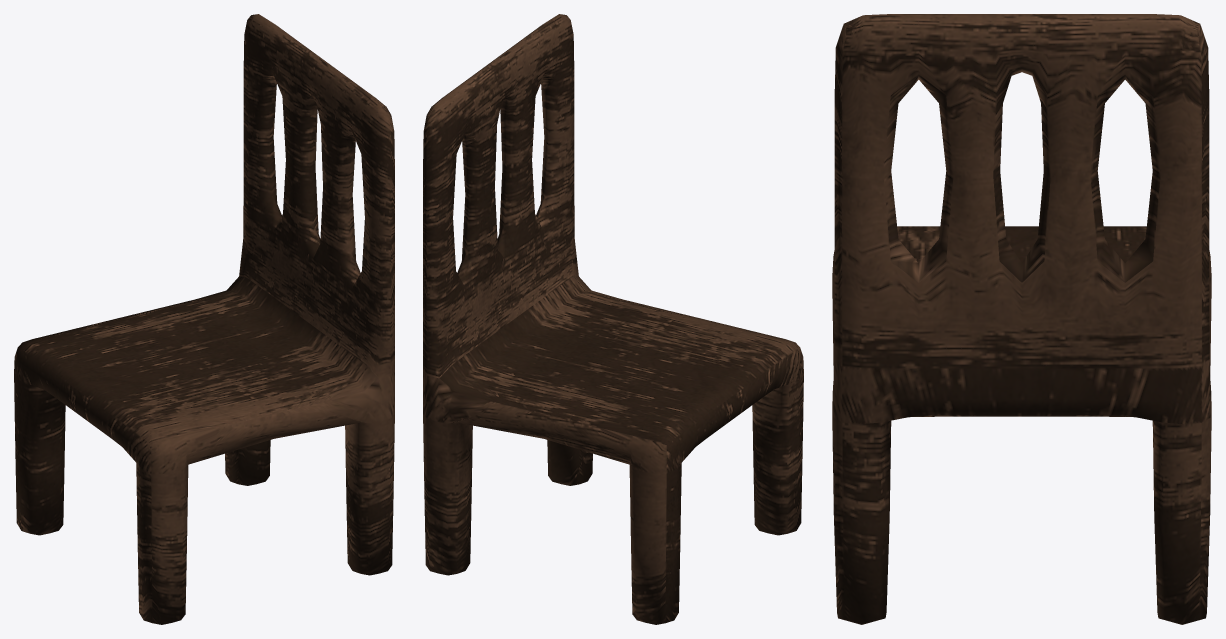
Rendered from Silla_normal.fbx.
The picture shows the model from 3 angles, left to right: view 1: azimuth 30°, elevation 25°; view 2: azimuth 150°, elevation 25°; view 3: azimuth 270°, elevation 25°; orthographic projection. The views are drawn at different scales.
Parts seen in each view (by area): view 1: Silla; view 2: Silla; view 3: Silla.
Boxes of the visible parts, box(x1,y1,x2,y2) form: Silla: box(14, 14, 394, 624); Silla: box(423, 14, 803, 624); Silla: box(832, 14, 1211, 624).
Bounding box in the file's own units: 1682 × 3001 × 1687.
